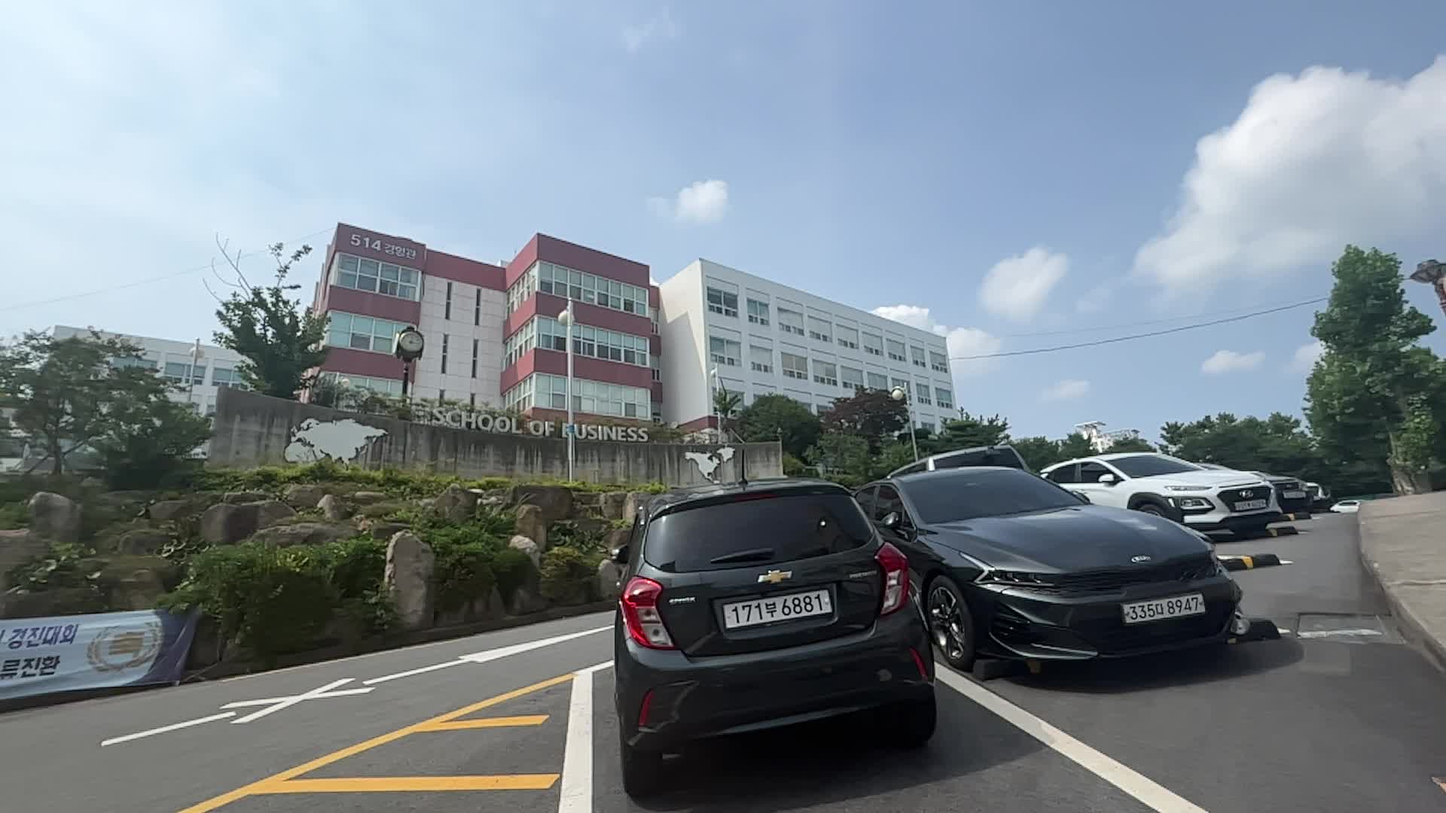low: (260, 216, 978, 410)
